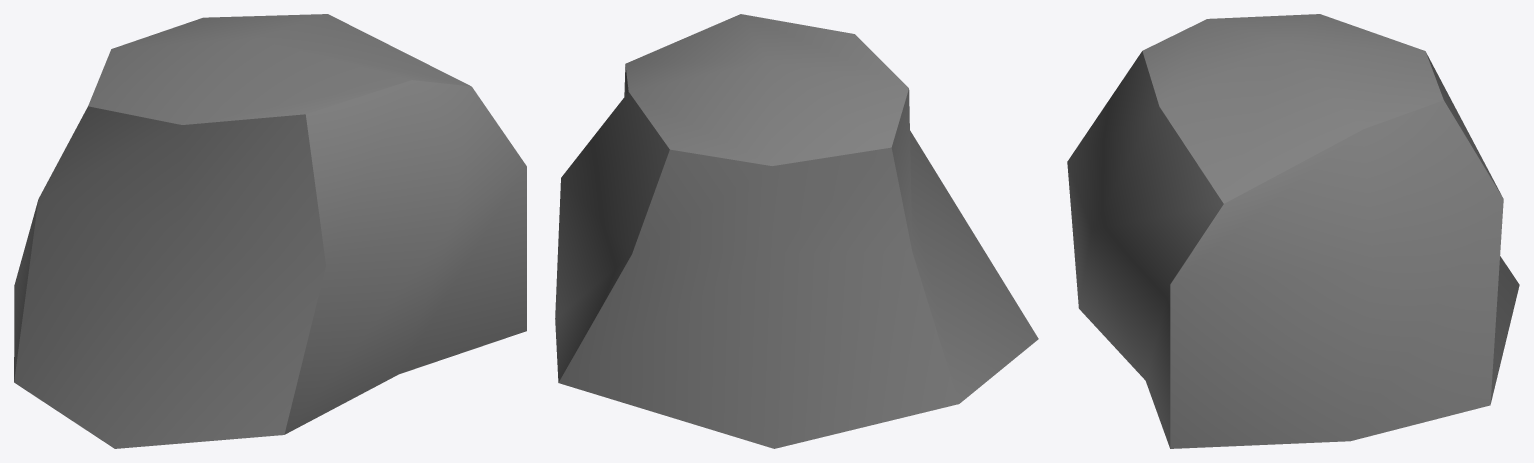
Rendered from rock2grisfonce.FBX.
3 views of the same model, side by side, from view 1: azimuth 30°, elevation 25°; view 2: azimuth 150°, elevation 25°; view 3: azimuth 270°, elevation 25° (orthographic). The views are drawn at different scales.
Parts seen in each view (by area): view 1: Box005; view 2: Box005; view 3: Box005.
Part boxes in pixels (x1=…): Box005: x1=14, y1=14, x2=526, y2=448; Box005: x1=555, y1=14, x2=1038, y2=448; Box005: x1=1067, y1=14, x2=1519, y2=448.
Bounding box in the file's own units: 6.66 × 4.39 × 5.98.
